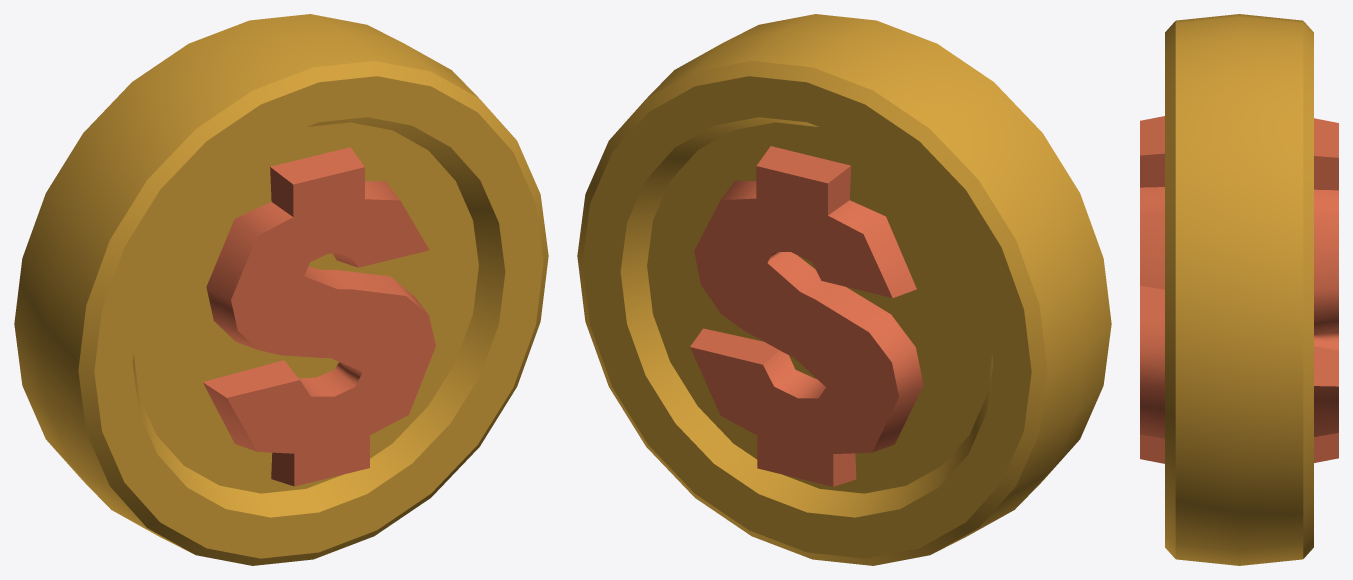
The model's file is coin2.0.fbx.
3 views of the same model, side by side, from view 1: azimuth 30°, elevation 25°; view 2: azimuth 150°, elevation 25°; view 3: azimuth 270°, elevation 25° (orthographic).
Visible parts, largest first — view 1: Coin2_0; view 2: Coin2_0; view 3: Coin2_0.
Boxes of the visible parts, left/top/right/bottom form: Coin2_0: left=14, top=14, right=548, bottom=565; Coin2_0: left=577, top=14, right=1111, bottom=565; Coin2_0: left=1140, top=14, right=1338, bottom=565.
Size of the model in its own units: 0.6121 by 0.6121 by 0.2197.
